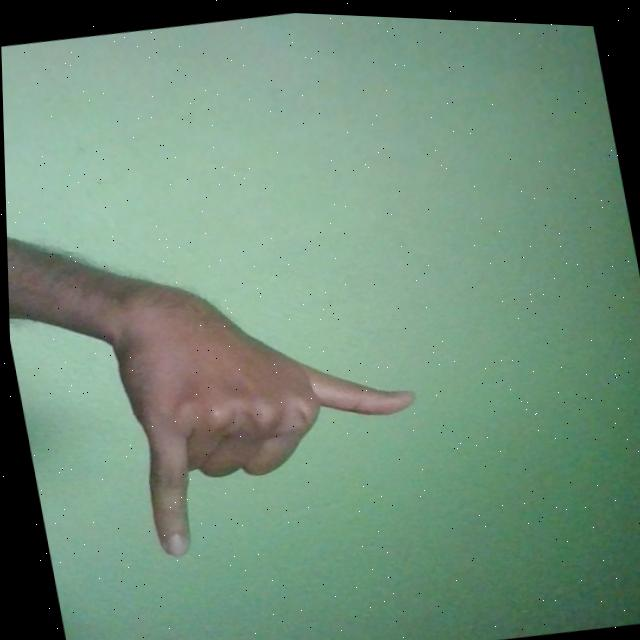Call Me: (92, 234, 440, 569)
